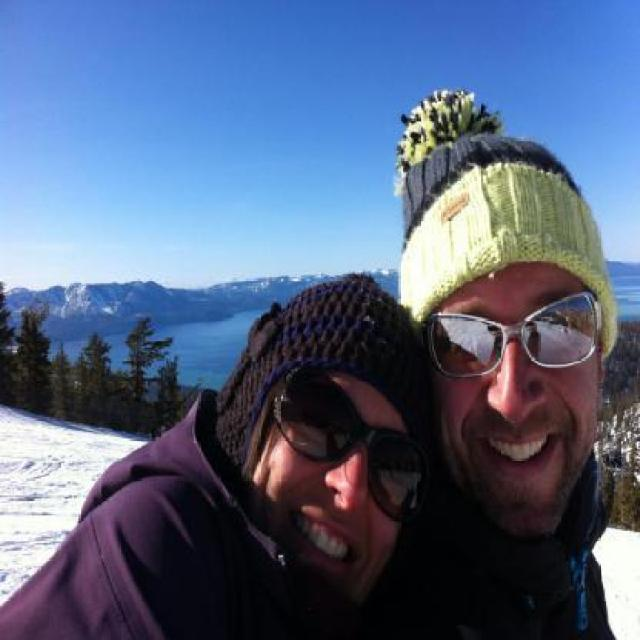face_nomask: (421, 286, 613, 531), (248, 362, 418, 590)
glasses: (258, 363, 442, 526), (408, 289, 614, 385)
